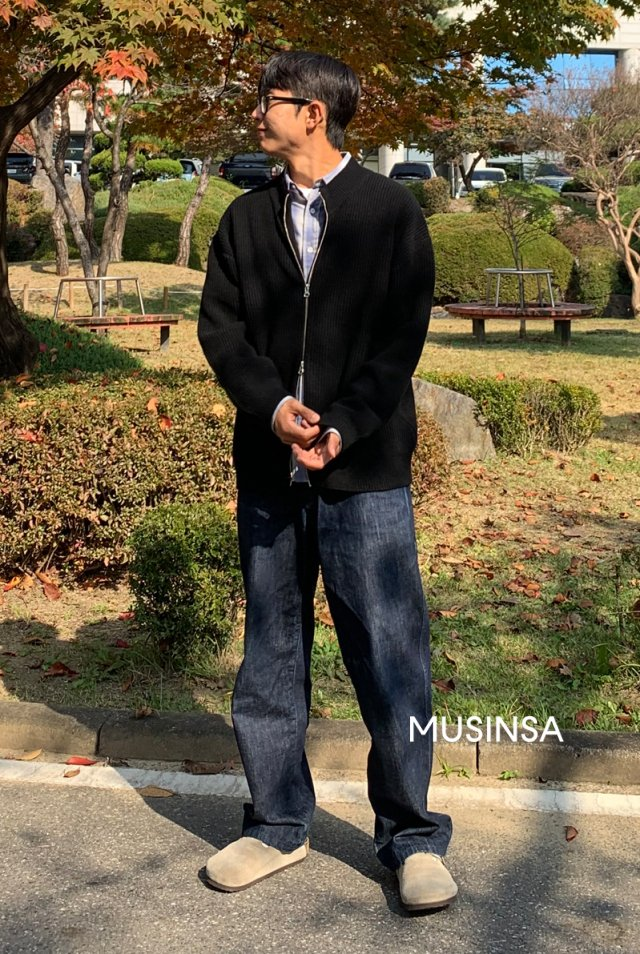Glasses: (250, 94, 316, 112)
Jeans: (216, 478, 456, 868)
Outer: (199, 168, 428, 498)
Sandal: (194, 828, 473, 915)
